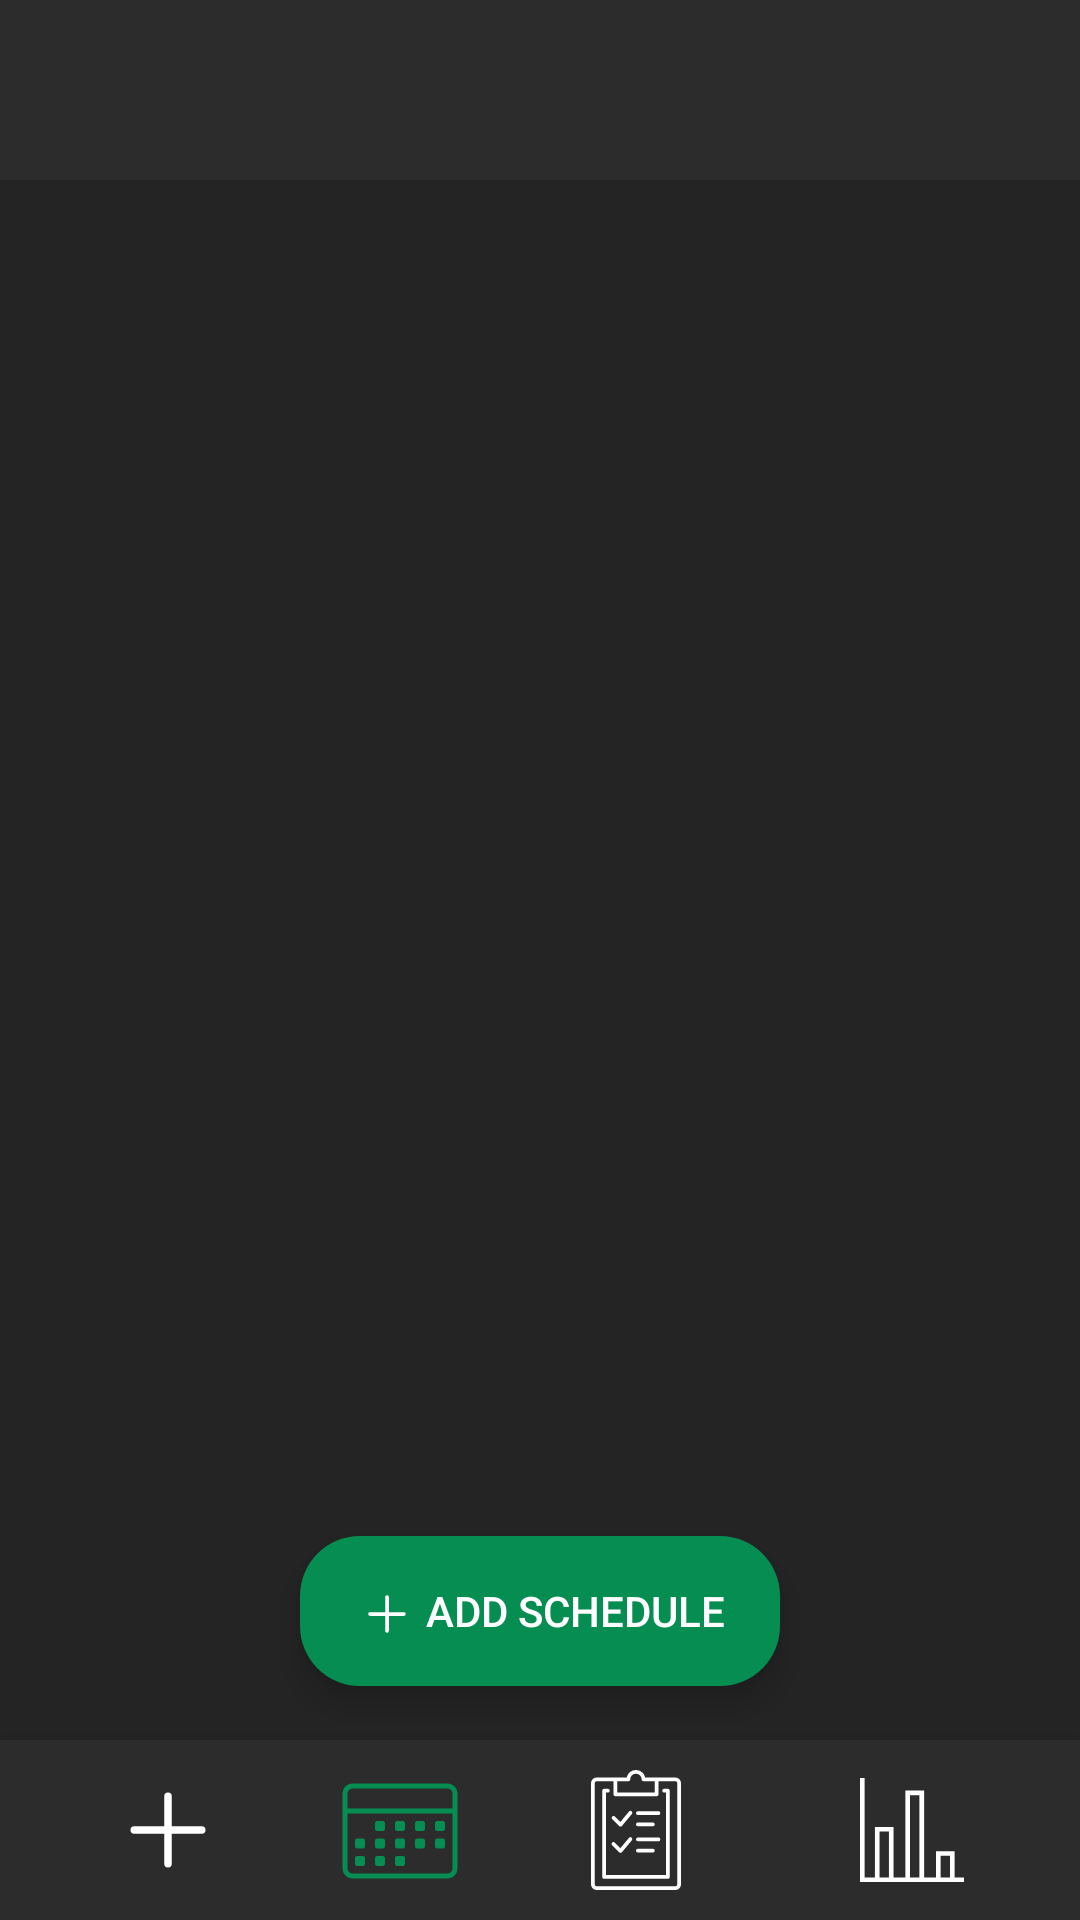

Where icons sit on this 1080px×1920px app screen, as [x1=x1, y1=y1, x2=x2, y2=y2]:
plusicon: [x1=368, y1=1595, x2=406, y2=1633], [x1=130, y1=1792, x2=206, y2=1868]
scheduleactive: [x1=342, y1=1783, x2=458, y2=1879]
